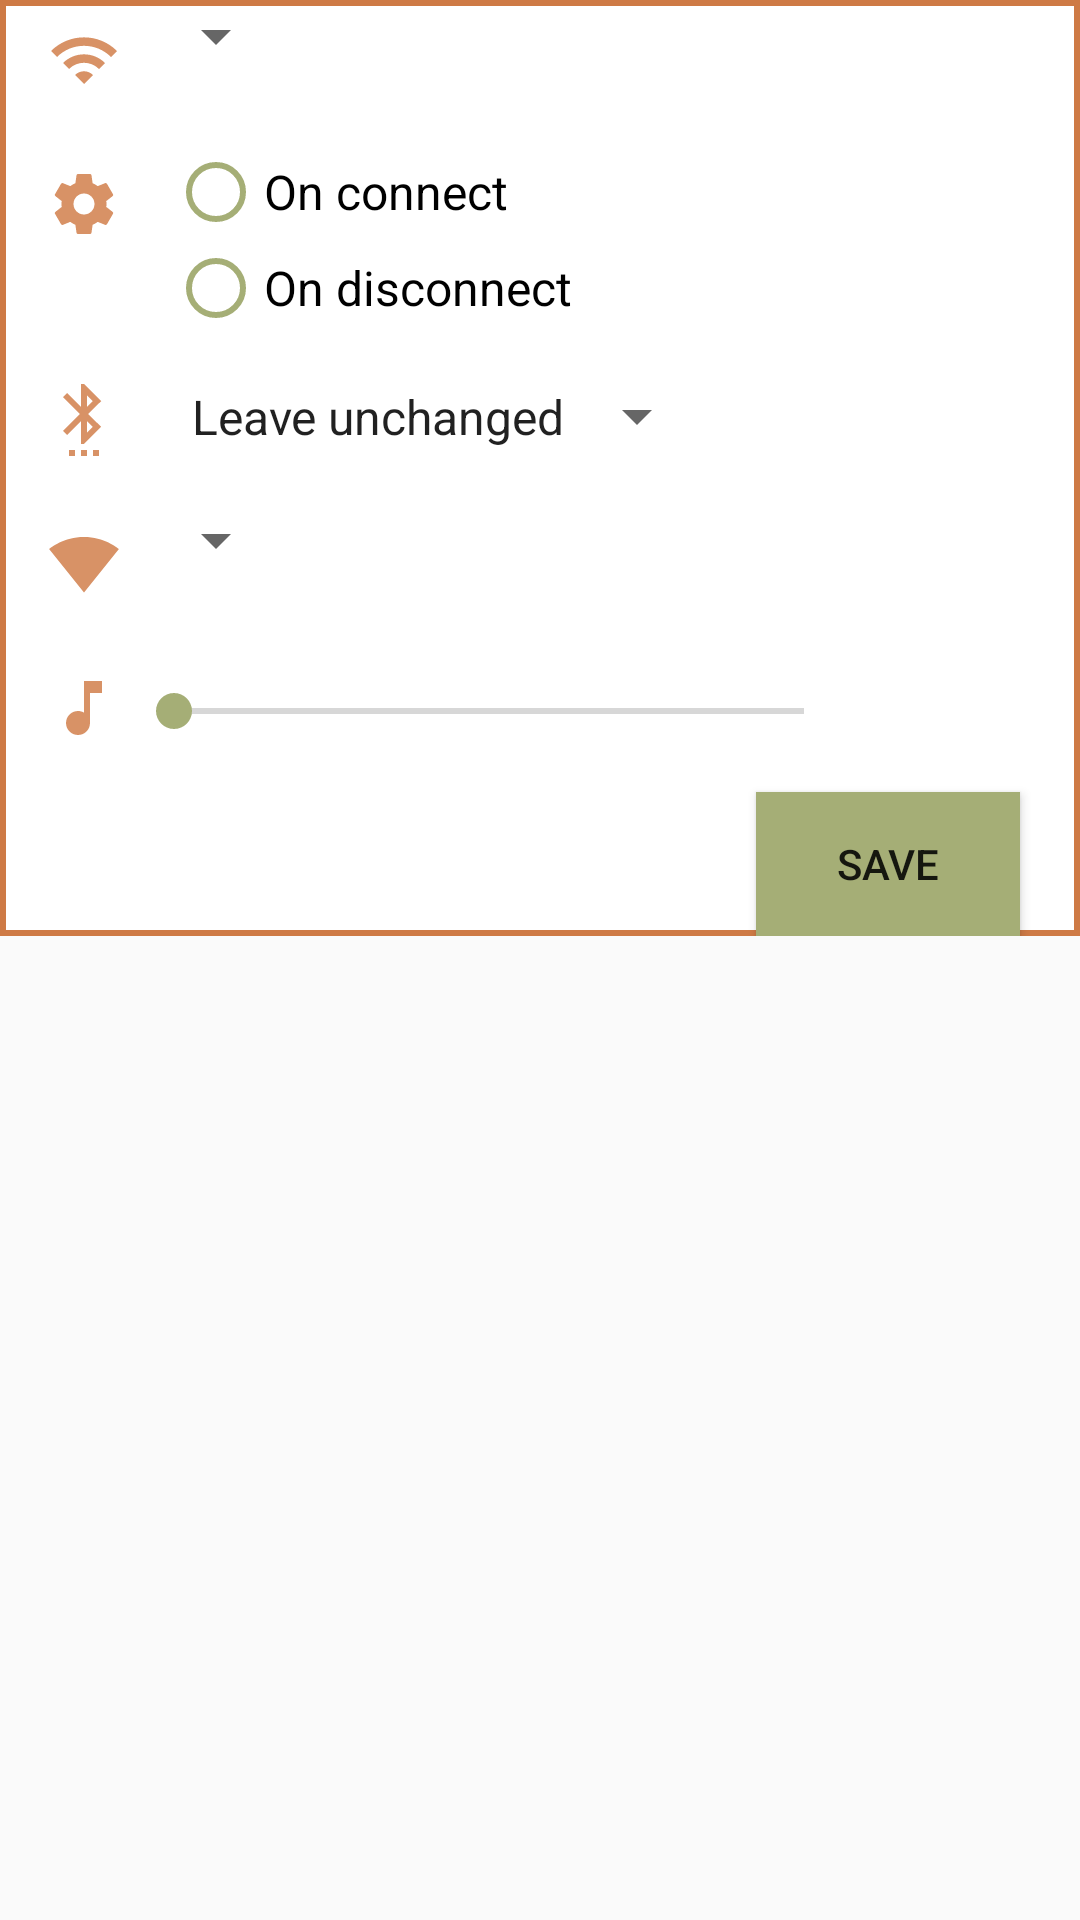

Named icons in this screenshot (1080*1920) and their centers, (x,y):
Media Volume Settings: (84,708)
Trigger Settings: (84,204)
Wifi Settings: (84,564)
